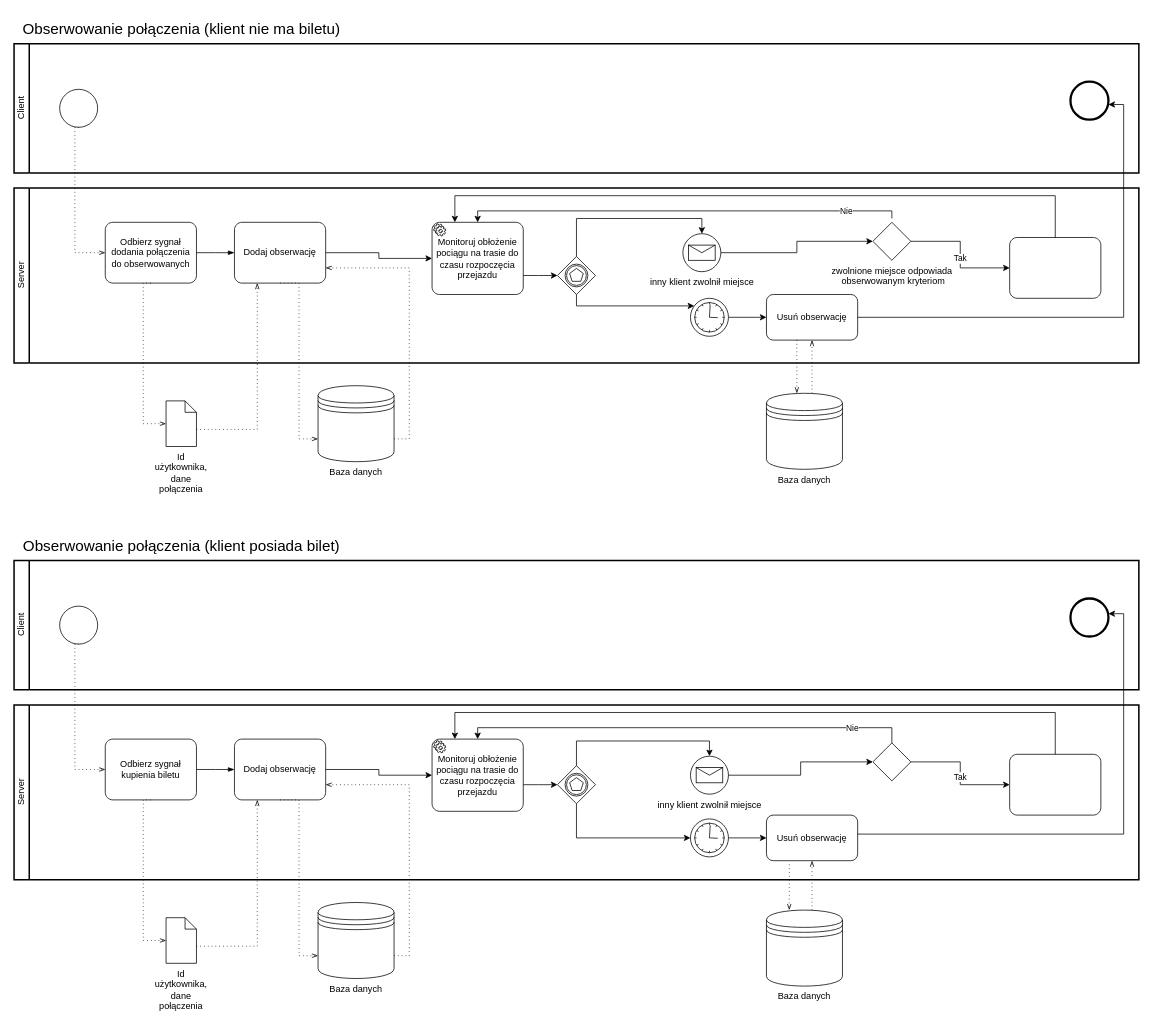
Some shapes in this 1152 by 1025 pixel diagram are drawn without their labels. Here are the shapes that lost their labels. From the top down, the box of each, then its label:
(1009, 237, 1101, 298): Wyślij powiadomienie o dostępności miejsca
(872, 742, 911, 781): zwolnione miejsce jest lepszą opcją przejazdu
(1009, 754, 1101, 815): Wyślij powiadomienie o dostępnym lepszym przejaździe
